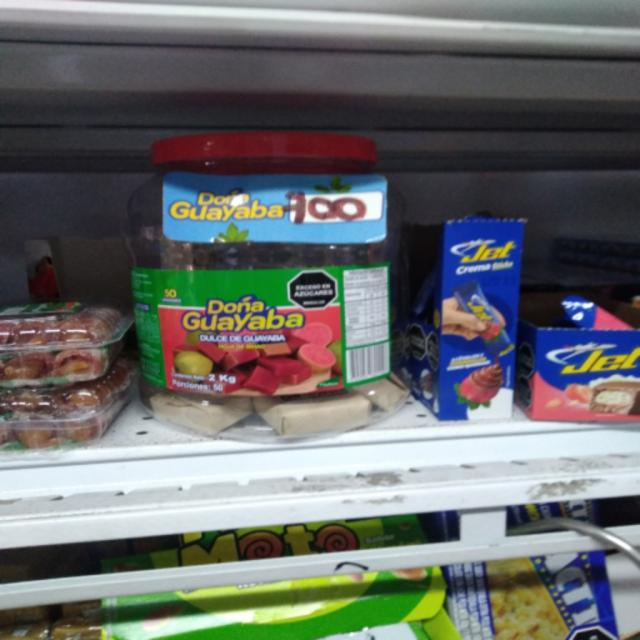Guayaba_lonja: (250, 388, 373, 442), (149, 390, 252, 437)
Precio: (283, 192, 383, 225)
